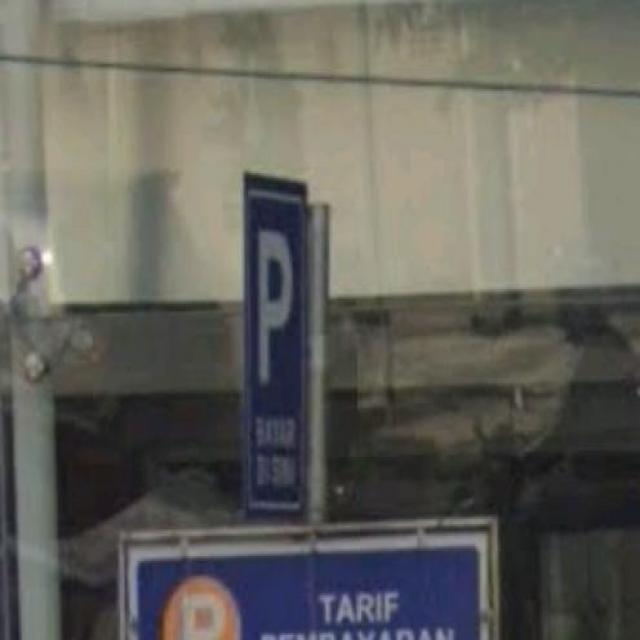traffic sign: (242, 168, 309, 510)
